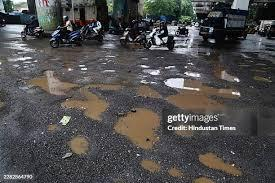D20: (260, 68, 274, 81)
D40: (244, 93, 260, 107), (100, 68, 117, 74)
